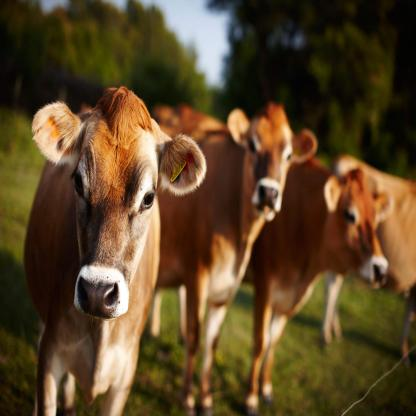cow: (26, 89, 206, 416), (152, 108, 317, 416), (240, 166, 389, 416), (324, 156, 416, 365)
